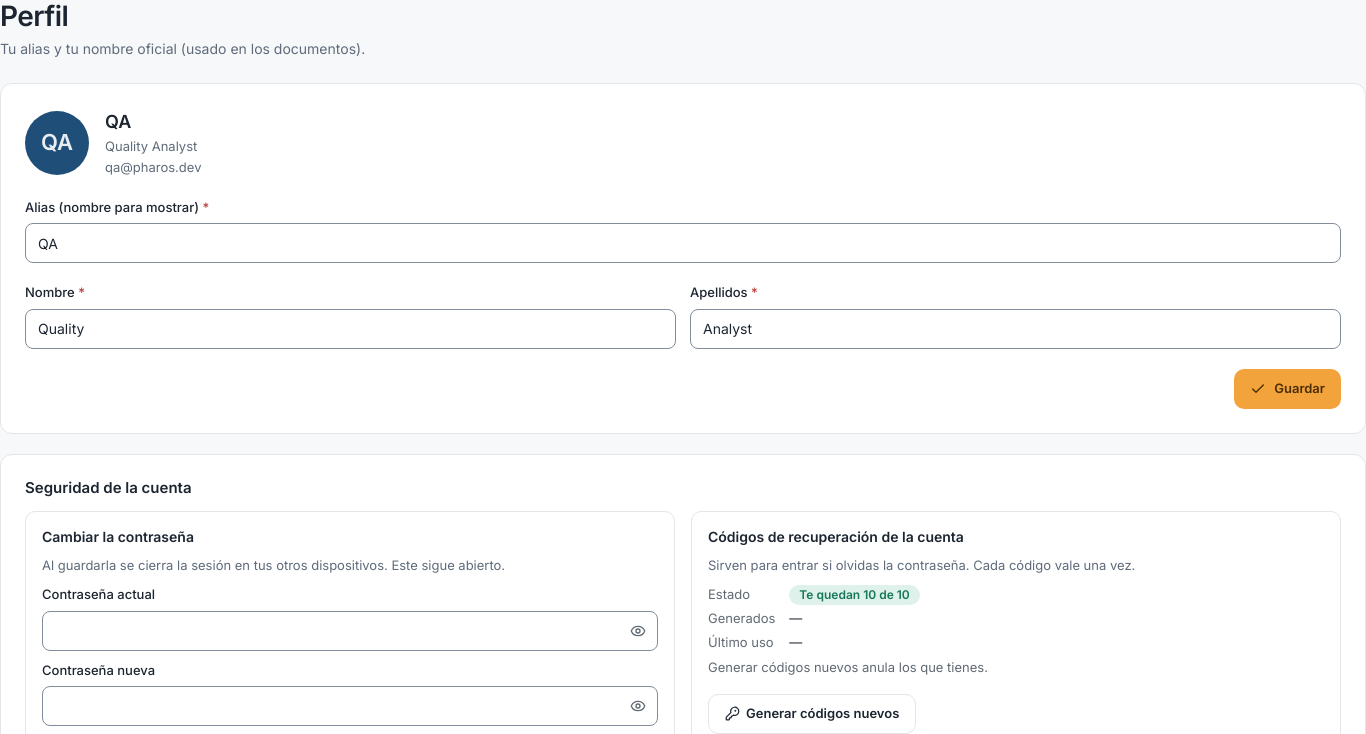
Test: profile page › prefills from the signed-in user and saves via the API
Expected: the field showing "Quality" is shown, [25,309,676,349]
What coordinates should you click on to do the following:
click the button "Guardar"
I would click on:
 (1288, 389)
Its box is [1234,369,1341,409].
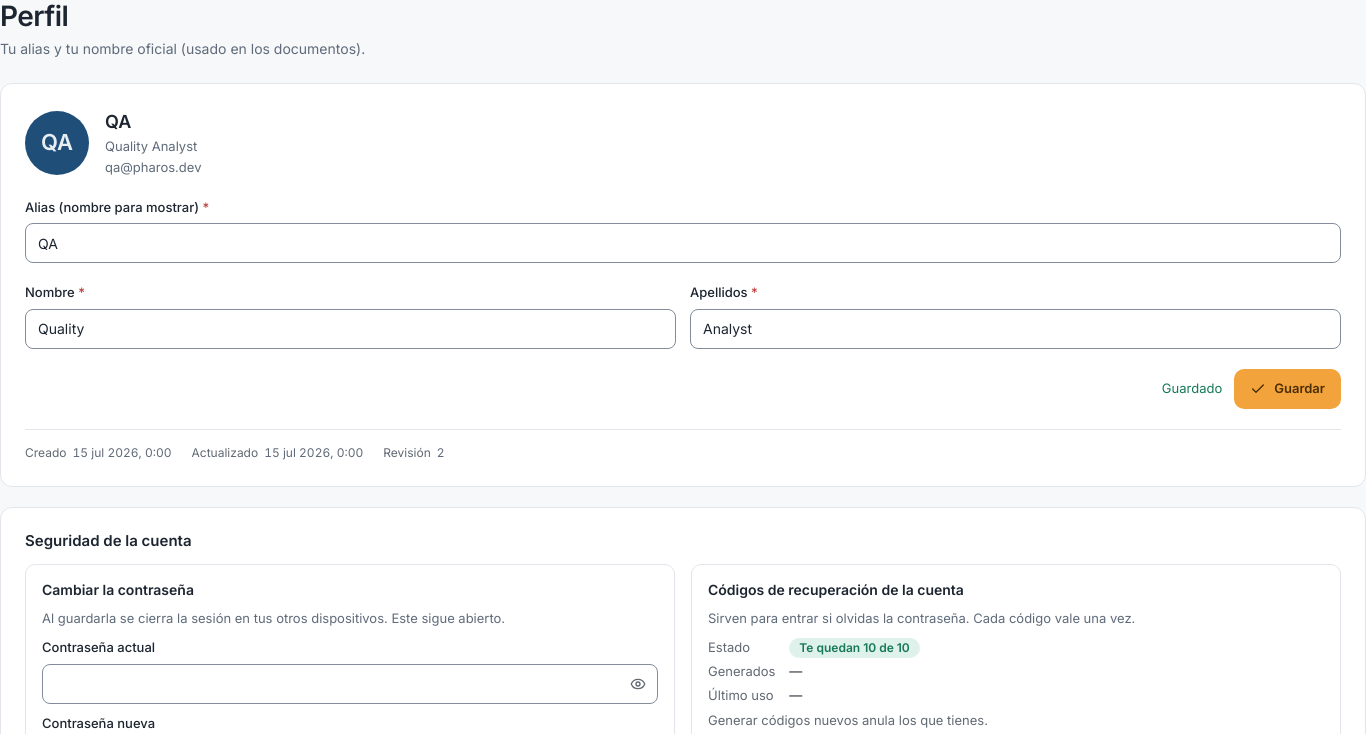
Expected: the text "Guardado" is shown, [1162,379,1222,398]
Expected: the text with test id "profile-revision" reads "2", [437,445,444,460]
